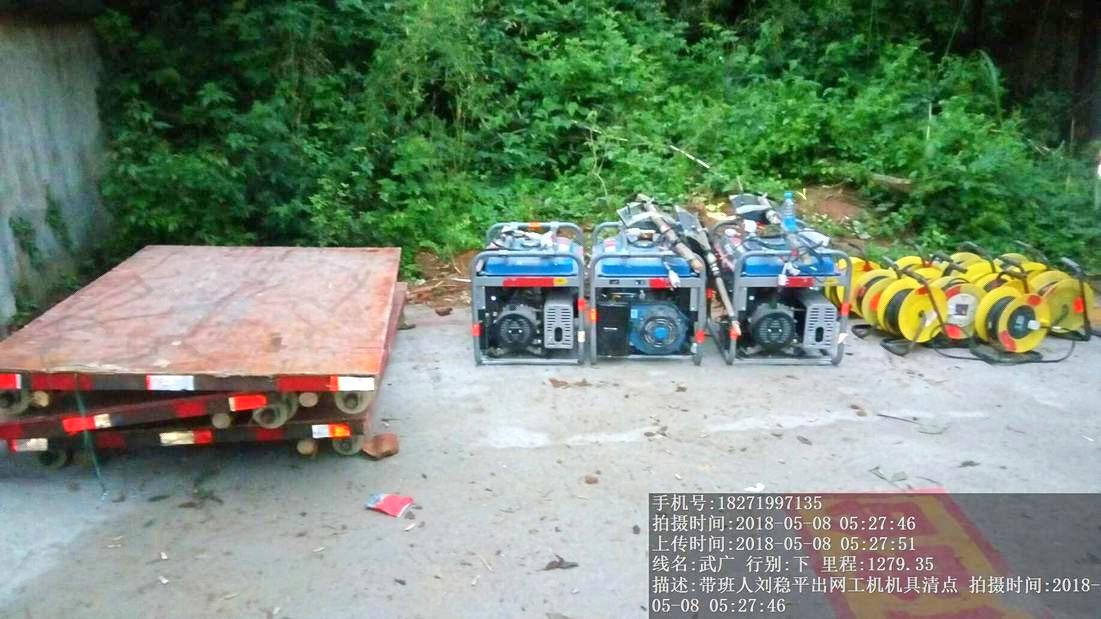DJ: (711, 219, 851, 372), (582, 206, 711, 372), (461, 210, 586, 371)
DX: (972, 283, 1068, 363), (877, 274, 951, 350)
